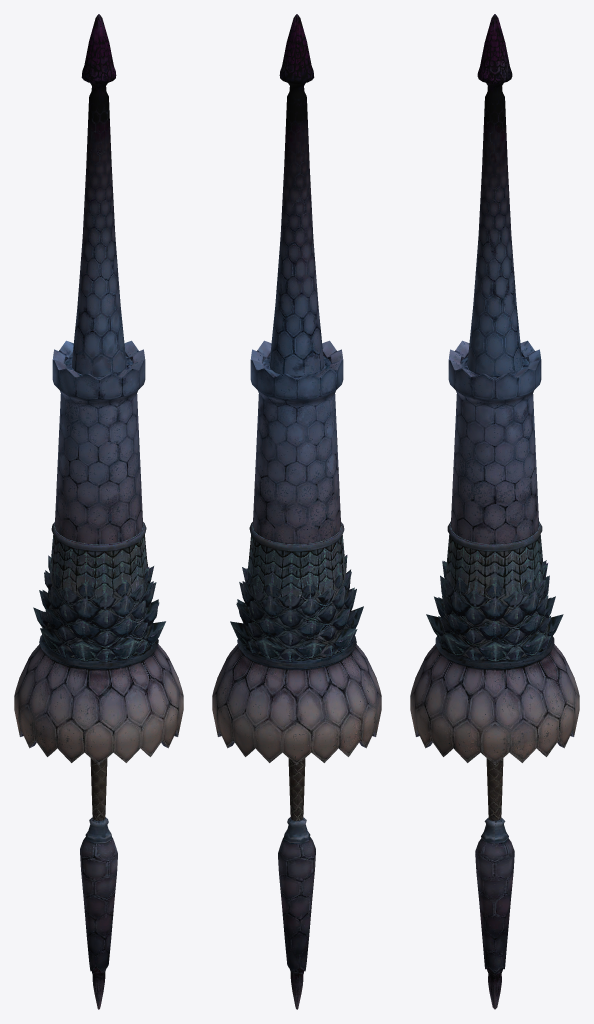
The model's file is lan011.obj.
The picture shows the model from 3 angles, left to right: view 1: azimuth 30°, elevation 25°; view 2: azimuth 150°, elevation 25°; view 3: azimuth 270°, elevation 25°; orthographic projection.
Parts seen in each view (by area): view 1: lan011_000_LOD_1, lan011_001_LOD_1; view 2: lan011_000_LOD_1, lan011_001_LOD_1; view 3: lan011_000_LOD_1, lan011_001_LOD_1.
Boxes of the visible parts, x1,y1,x2,y2 form: lan011_000_LOD_1: [14, 14, 183, 1009]; lan011_001_LOD_1: [33, 555, 165, 661]; lan011_000_LOD_1: [212, 14, 381, 1009]; lan011_001_LOD_1: [230, 555, 363, 661]; lan011_000_LOD_1: [410, 14, 579, 1009]; lan011_001_LOD_1: [426, 560, 563, 661].
Bounding box in the file's own units: 63.41 × 411 × 63.41.
